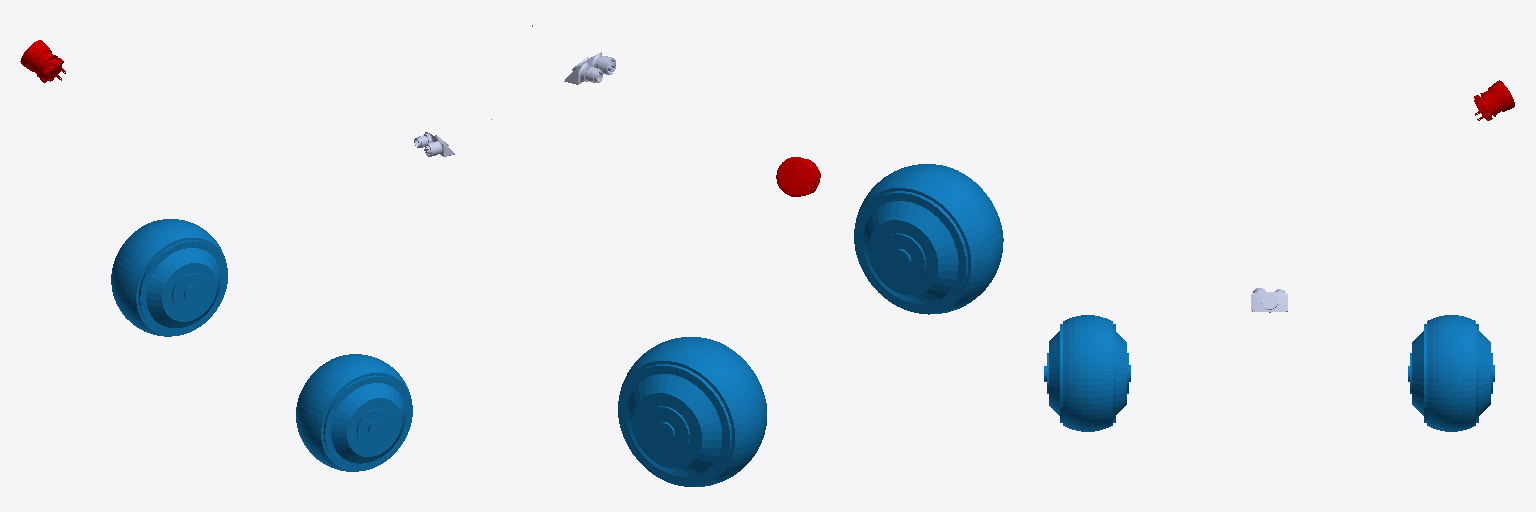
The robot description file, URDF, robot "freight":
<robot name="freight">
  <link name="base_link">
    <inertial>
      <origin rpy="0 0 0" xyz="-0.0036 0.0 0.0014" />
      <mass value="70.1294" />
      <inertia ixx="1.225" ixy="0.0099" ixz="0.0062" iyy="1.2853" iyz="-0.0034" izz="0.987" />
    </inertial>
    <visual>
      <origin rpy="0 0 0" xyz="0 0 0" />
      <geometry>
        <mesh filename="meshes/base_link.obj" />
      </geometry>
      <material name="">
        <color rgba="0.356 0.361 0.376 1" />
      </material>
    </visual>
    <collision>
      <origin rpy="0 0 0" xyz="0 0 0" />
      <geometry>
        <mesh filename="meshes/base_link_collision.STL" />
      </geometry>
    </collision>
  
    <contact>
      <lateral_friction value="0.0"/>
      <rolling_friction value="0.0"/>
       <stiffness value="300000"/>
      <damping value="30000"/>
    </contact>

  </link>
  <link name="r_wheel_link">
    <inertial>
      <origin rpy="0 0 0" xyz="0 0 0" />
      <mass value="4.3542" />
      <inertia ixx="0.0045" ixy="0" ixz="0" iyy="0.005" iyz="0" izz="0.0045" />
    </inertial>
    <visual>
      <origin rpy="0 0 0" xyz="0 0 0" />
      <geometry>
        <mesh filename="meshes/r_wheel_link.obj" />
      </geometry>
      <material name="">
        <color rgba="0.086 0.506 0.767 1" />
      </material>
    </visual>
    <collision>
      <origin rpy="0 0 0" xyz="0 0 0" />
      <geometry>
        <mesh filename="meshes/r_wheel_link_collision.STL" />
      </geometry>
    </collision>
    <contact>
      <lateral_friction value="1.0"/>
      <rolling_friction value="0.0"/>
       <stiffness value="300000"/>
      <damping value="30000"/>
    </contact>

  </link>
  <joint name="r_wheel_joint" type="continuous">
    <origin rpy="-6.123E-17 0 0" xyz="0.0012914 -0.18738 0.055325" />
    <parent link="base_link" />
    <child link="r_wheel_link" />
    <axis xyz="0 1 0" />
  <limit effort="8.85" velocity="34.8" /></joint>
  <link name="l_wheel_link">
    <inertial>
      <origin rpy="0 0 0" xyz="0 0 0" />
      <mass value="4.3542" />
      <inertia ixx="0.0045" ixy="0" ixz="0" iyy="0.005" iyz="0" izz="0.0045" />
    </inertial>
    <visual>
      <origin rpy="0 0 0" xyz="0 0 0" />
      <geometry>
        <mesh filename="meshes/l_wheel_link.obj" />
      </geometry>
      <material name="">
        <color rgba="0.086 0.506 0.767 1" />
      </material>
    </visual>
    <collision>
      <origin rpy="0 0 0" xyz="0 0 0" />
      <geometry>
        <mesh filename="meshes/l_wheel_link_collision.STL" />
      </geometry>
    </collision>
     <contact>
      <lateral_friction value="1.0"/>
      <rolling_friction value="0.0"/>
       <stiffness value="300000"/>
      <damping value="30000"/>
    </contact>
    
  </link>
  <joint name="l_wheel_joint" type="continuous">
    <origin rpy="-6.123E-17 0 0" xyz="0.0012914 0.18738 0.055325" />
    <parent link="base_link" />
    <child link="l_wheel_link" />
    <axis xyz="0 1 0" />
  <limit effort="8.85" velocity="34.8" /></joint>
  <link name="estop_link">
    <inertial>
      <origin rpy="0 0 0" xyz="0.002434512737072 -0.00330608315239905 0.00665139196650039" />
      <mass value="0.00196130439134723" />
      <inertia ixx="3.02810026604417E-07" ixy="-1.5862023118056E-08" ixz="3.16561396557437E-08" iyy="2.93322917127605E-07" iyz="-4.28833522751273E-08" izz="2.28513272627183E-07" />
    </inertial>
    <visual>
      <origin rpy="0 0 0" xyz="0 0 0" />
      <geometry>
        <mesh filename="meshes/estop_link.obj" />
      </geometry>
      <material name="">
        <color rgba="0.8 0 0 1" />
      </material>
    </visual>
    <collision>
      <origin rpy="0 0 0" xyz="0 0 0" />
      <geometry>
        <mesh filename="meshes/estop_link.obj" />
      </geometry>
    </collision>
  </link>
  <joint name="estop_joint" type="fixed">
    <origin rpy="1.5708 0 0" xyz="-0.12465 0.23892 0.31127" />
    <parent link="base_link" />
    <child link="estop_link" />
    <axis xyz="0 0 0" />
  </joint>
  <link name="laser_link">
    <inertial>
      <origin rpy="0 0 0" xyz="-0.0306228970175641 0.0007091682908278 0.0551974119471302" />
      <mass value="0.00833634573995571" />
      <inertia ixx="1.01866461240801E-06" ixy="-5.88447626567756E-08" ixz="7.83857244757914E-08" iyy="5.10039589974707E-07" iyz="-7.12664289617235E-09" izz="1.28270671527309E-06" />
    </inertial>
    <visual>
      <origin rpy="0 0 0" xyz="0 0 0" />
      <geometry>
        <mesh filename="meshes/laser_link.obj" />
      </geometry>
      <material name="">
        <color rgba="0.792156862745098 0.819607843137255 0.933333333333333 1" />
      </material>
    </visual>
    <collision>
      <origin rpy="0 0 0" xyz="0 0 0" />
      <geometry>
        <mesh filename="meshes/laser_link.obj" />
      </geometry>
    </collision>
  </link>
  <joint name="laser_joint" type="fixed">
    <origin rpy="3.14159265359 0 0" xyz="0.235 0 0.2878" />
    <parent link="base_link" />
    <child link="laser_link" />
    <axis xyz="0 0 0" />
  </joint>
  <link name="base_camera_link">
   <inertial>
      <mass value="0.0001"/>
      <origin rpy="0 0 0" xyz="0 0 0"/>
      <inertia ixx="0.0000001" ixy="0.0" ixz="0.0" iyy="0.0000001" iyz="0.0" izz="0.0000001"/>
    </inertial>
  </link>
  <joint name="base_camera_joint" type="fixed">
    <origin rpy="0 -0.17453292519943 0" xyz="0.2645 0 0.198" />
    <parent link="base_link" />
    <child link="base_camera_link" />
  </joint>
  <link name="base_camera_optical_frame">
  	  <inertial>
      <mass value="0.0001"/>
      <origin rpy="0 0 0" xyz="0 0 0"/>
      <inertia ixx="0.0000001" ixy="0.0" ixz="0.0" iyy="0.0000001" iyz="0.0" izz="0.0000001"/>
    </inertial>
  </link>
  <joint name="base_camera_optical_joint" type="fixed">
    <origin rpy="1.5707963267966 0 1.5707963267966" xyz="0 0 0" />
    <parent link="base_camera_link" />
    <child link="base_camera_optical_frame" />
  </joint>

  <link name="eyes">
    <inertial>
      <mass value="0.001"/>
      <origin xyz="0 0 0"/>
      <inertia ixx="0.0001" ixy="0.0" ixz="0.0" iyy="0.0001" iyz="0.0" izz="0.0001"/>
    </inertial>
  </link>
  <joint name="eye_joint" type="fixed">
   <origin rpy="0 0 0" xyz="0 0 0"/>
    <parent link="base_camera_link"/>
    <child link="eyes"/>
  </joint>

</robot>

--- Facts derived from the render (not from the file) ---
The picture shows the robot from 3 angles, left to right: view 1: azimuth 30°, elevation 25°; view 2: azimuth 150°, elevation 25°; view 3: azimuth 270°, elevation 25°; orthographic projection.
Robot: freight — 8 links, 7 joints (2 continuous, 5 fixed); root link base_link; default pose: every joint at zero.
Visible links, largest first — view 1: r_wheel_link, l_wheel_link, estop_link, laser_link; view 2: r_wheel_link, l_wheel_link, estop_link, laser_link; view 3: l_wheel_link, r_wheel_link, estop_link, laser_link.
Boxes of the visible links, <box> form: r_wheel_link: <box>296,354,412,471</box>; l_wheel_link: <box>111,219,227,336</box>; estop_link: <box>20,40,65,82</box>; laser_link: <box>414,119,491,156</box>; r_wheel_link: <box>854,164,1003,314</box>; l_wheel_link: <box>618,337,766,486</box>; estop_link: <box>776,157,820,196</box>; laser_link: <box>532,25,615,84</box>; l_wheel_link: <box>1408,315,1494,431</box>; r_wheel_link: <box>1044,315,1130,431</box>; estop_link: <box>1474,80,1514,120</box>; laser_link: <box>1251,288,1287,312</box>.
Bounding box of the posed robot: 0.4051 × 0.4855 × 0.3337 m (x, y, z).
Meshes: 5 distinct files referenced, 4 mesh visuals loaded (4 OBJ); not drawn: 1 (reference not matched to a file when rendering).